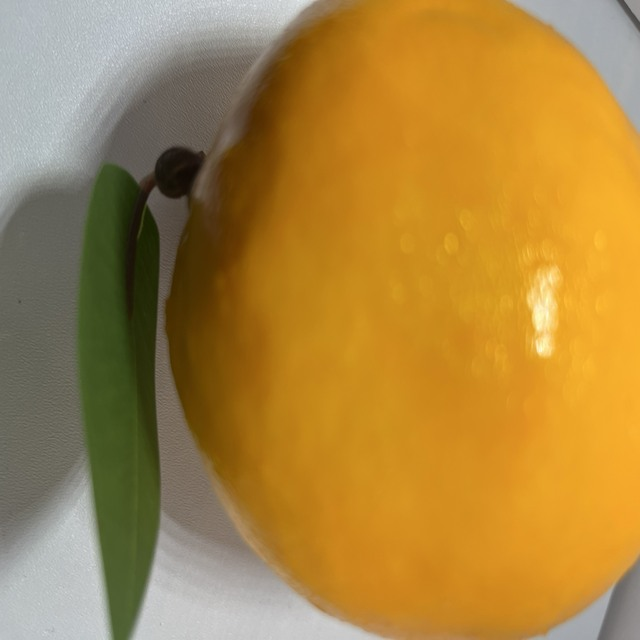Cam vang: (148, 0, 640, 640)
